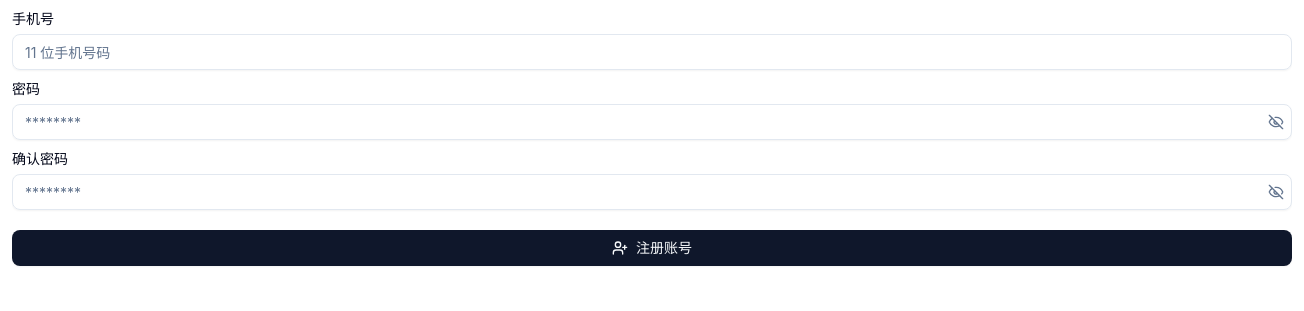
Test: SignUpForm › shows a mismatch error when passwords do not match
Type "13800138000" into the field labelled "手机号" at point(652, 52), box left=12, top=34, right=1292, bottom=70
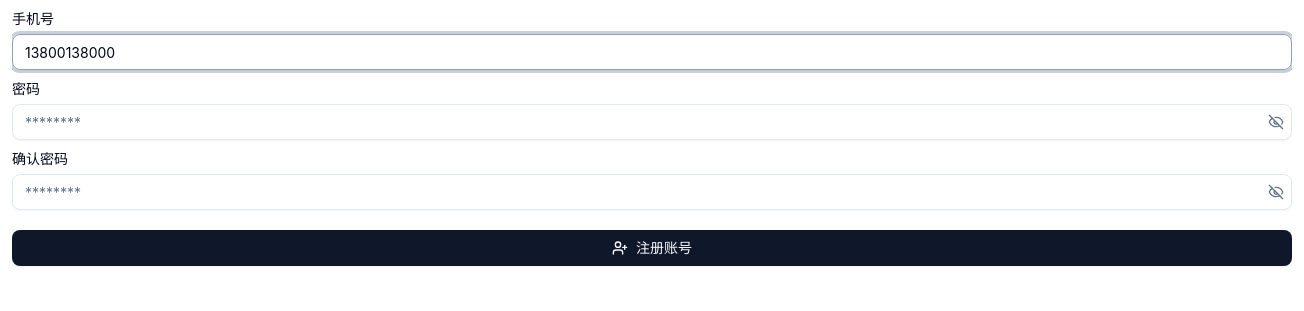
Type "1234567" into the password field labelled "密码" at point(652, 122), box left=12, top=104, right=1292, bottom=140
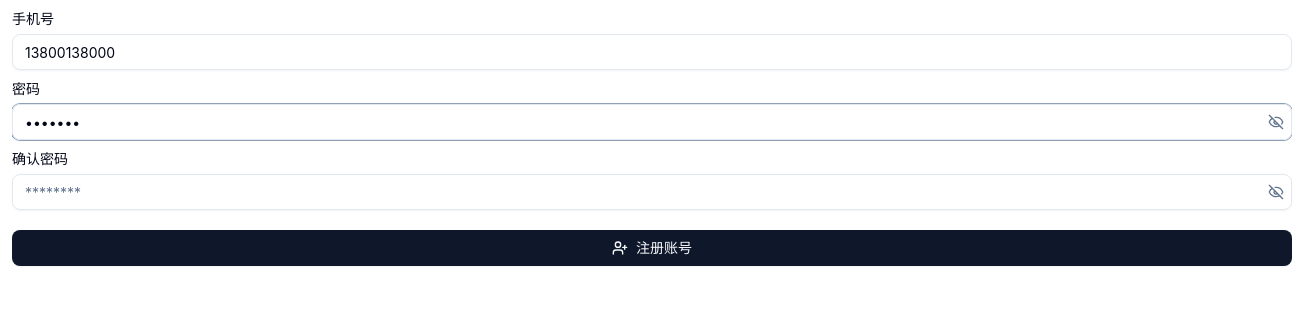
Type "7654321" into the password field labelled "确认密码" at point(652, 192), box left=12, top=174, right=1292, bottom=210
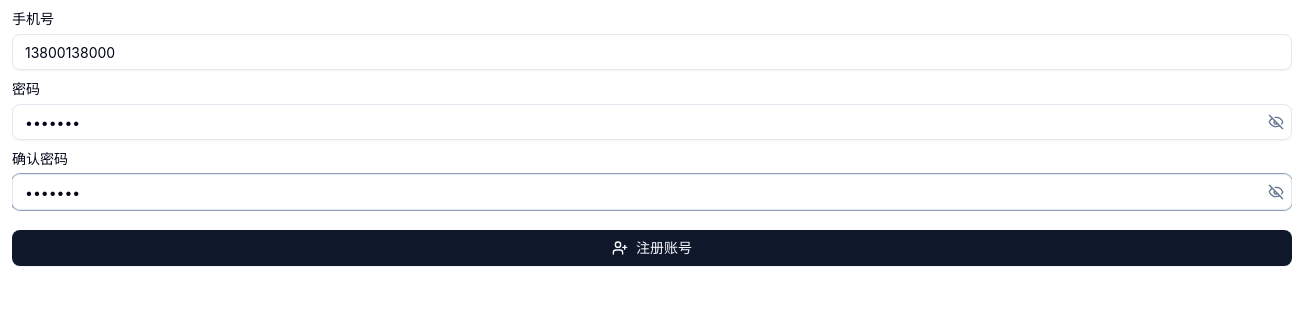
Click the button "注册账号" at point(652, 248), box left=12, top=230, right=1292, bottom=266
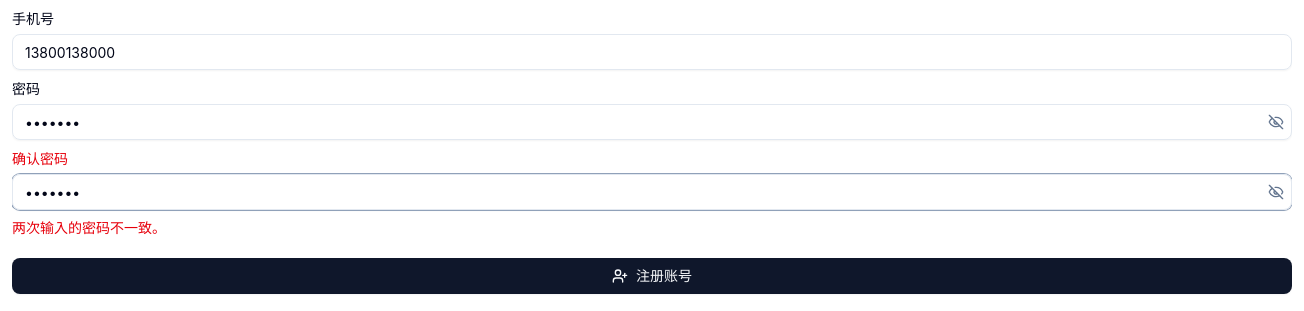
Result: the text "两次输入的密码不一致。" is shown at left=12, top=219, right=166, bottom=236
